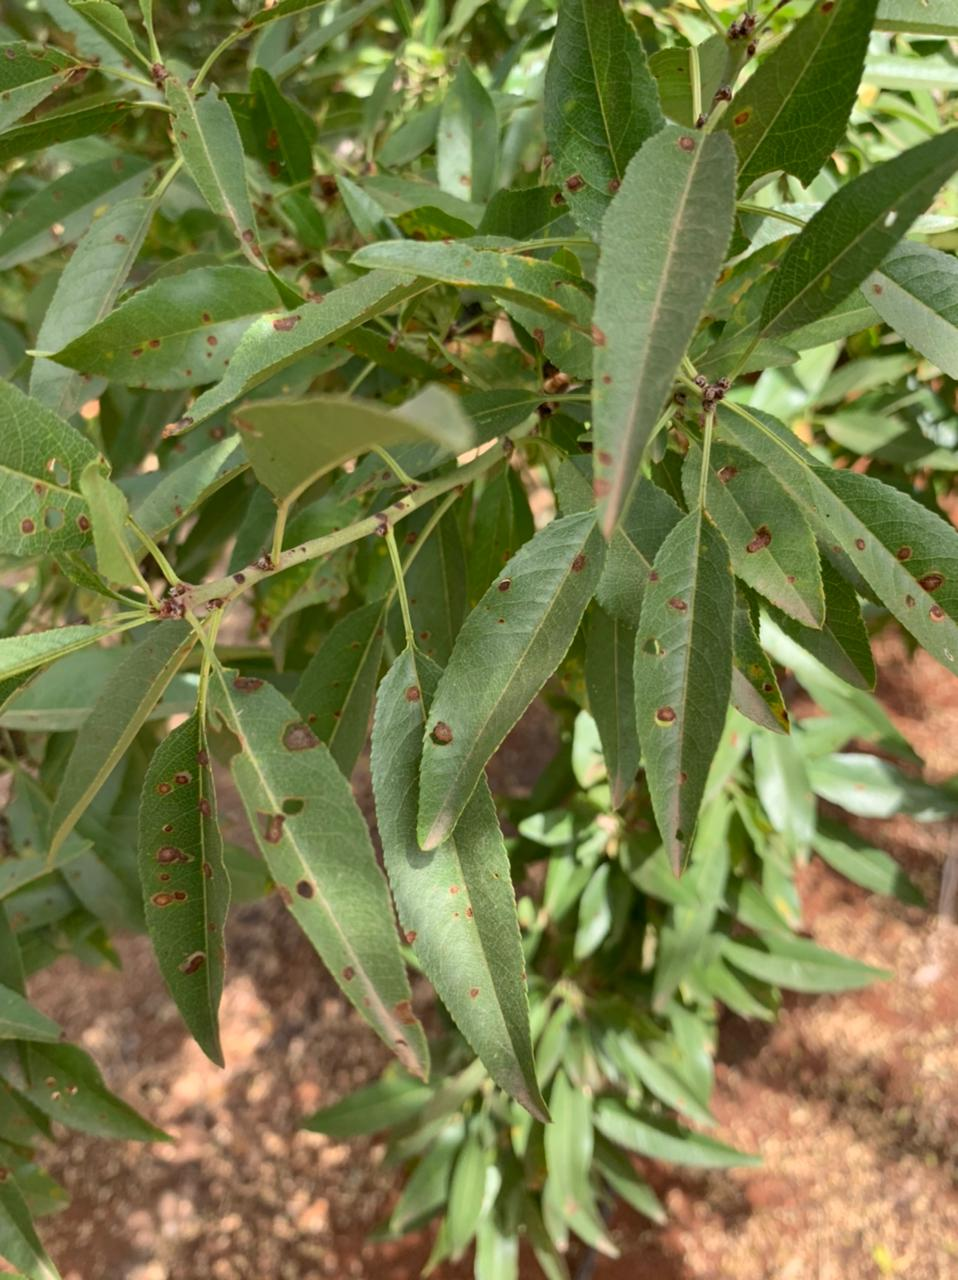coryneum: (204, 665, 432, 1084), (368, 648, 554, 1129), (418, 508, 609, 853), (590, 127, 737, 546), (632, 511, 733, 888), (28, 261, 282, 394), (136, 713, 229, 1069), (679, 437, 827, 630), (160, 73, 268, 271)
